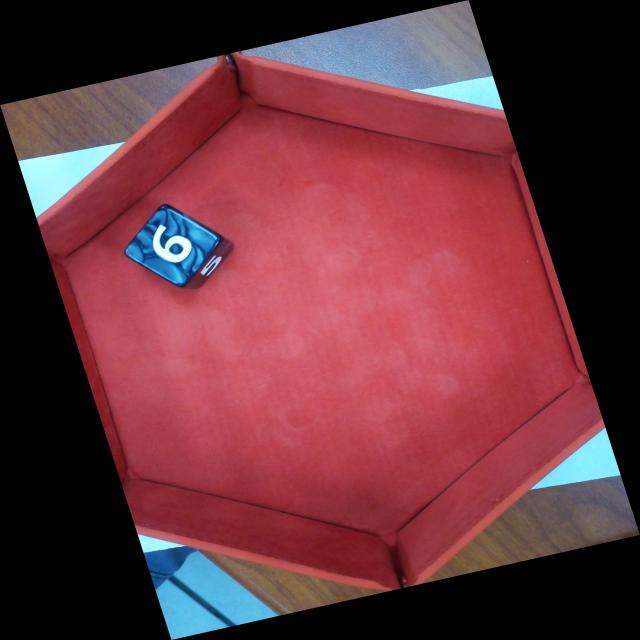dice: (122, 201, 228, 289)
